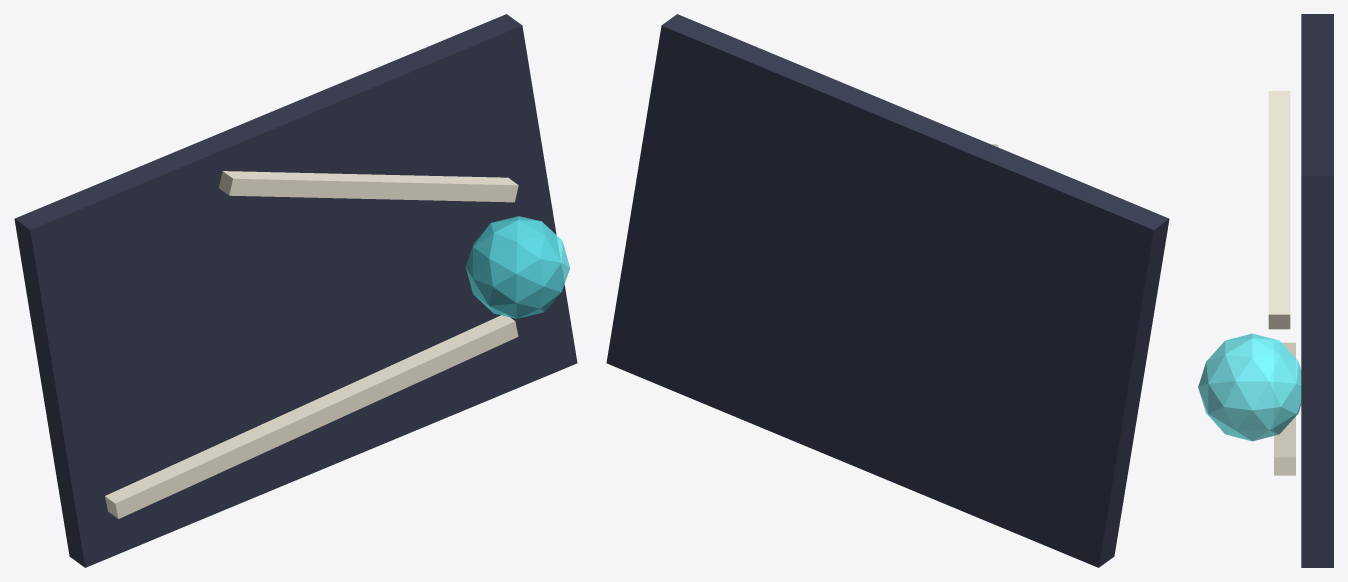
The model's file is 02_world_prop_polish.glb.
3 renders of one model, left to right at view 1: azimuth 30°, elevation 25°; view 2: azimuth 150°, elevation 25°; view 3: azimuth 270°, elevation 25°, orthographic. The views are drawn at different scales.
Visible parts, largest first — view 1: object_overlay_plate, edge_wear_a, glow_socket, edge_wear_b; view 2: object_overlay_plate; view 3: object_overlay_plate, glow_socket, edge_wear_b, edge_wear_a.
Part boxes in pixels (box(x1,y1,x2,y2)): object_overlay_plate: box(14, 14, 577, 567); edge_wear_a: box(105, 314, 518, 518); glow_socket: box(465, 216, 569, 318); edge_wear_b: box(219, 171, 518, 202); object_overlay_plate: box(606, 14, 1169, 567); object_overlay_plate: box(1301, 14, 1333, 567); glow_socket: box(1198, 333, 1301, 441); edge_wear_b: box(1268, 91, 1290, 329); edge_wear_a: box(1274, 342, 1295, 475).
Bounding box in the file's own units: 1.21 × 0.9183 × 0.25.
